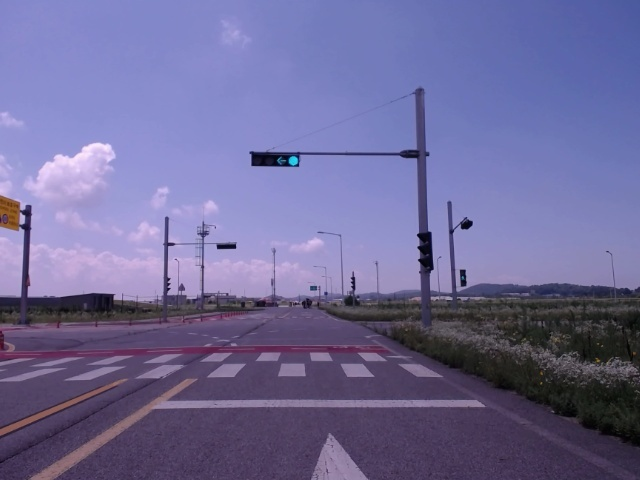all_green_4: (256, 150, 300, 168)
